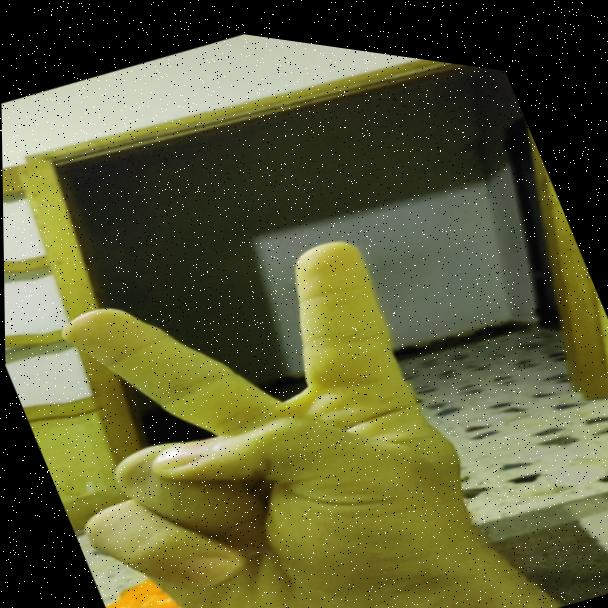two: (2, 165, 502, 608)
